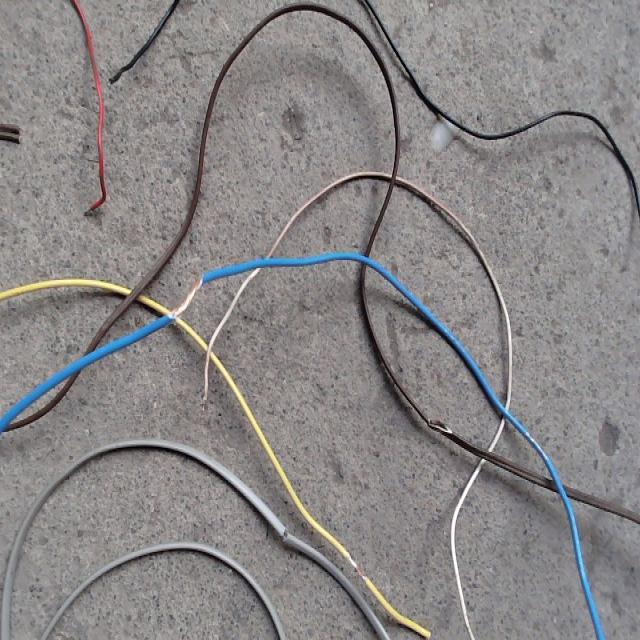-: (166, 273, 201, 320), (425, 413, 454, 438), (352, 562, 366, 578), (280, 524, 288, 543)
